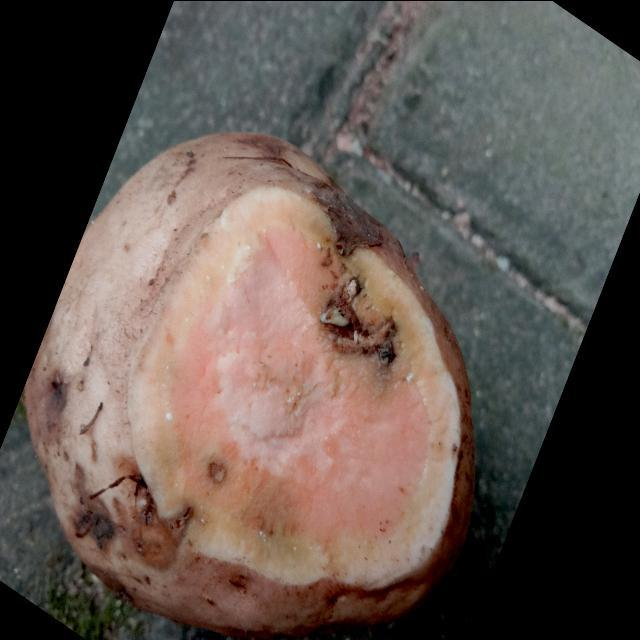Sick Sweet Potato_Tuber Rot: (129, 185, 472, 587)
